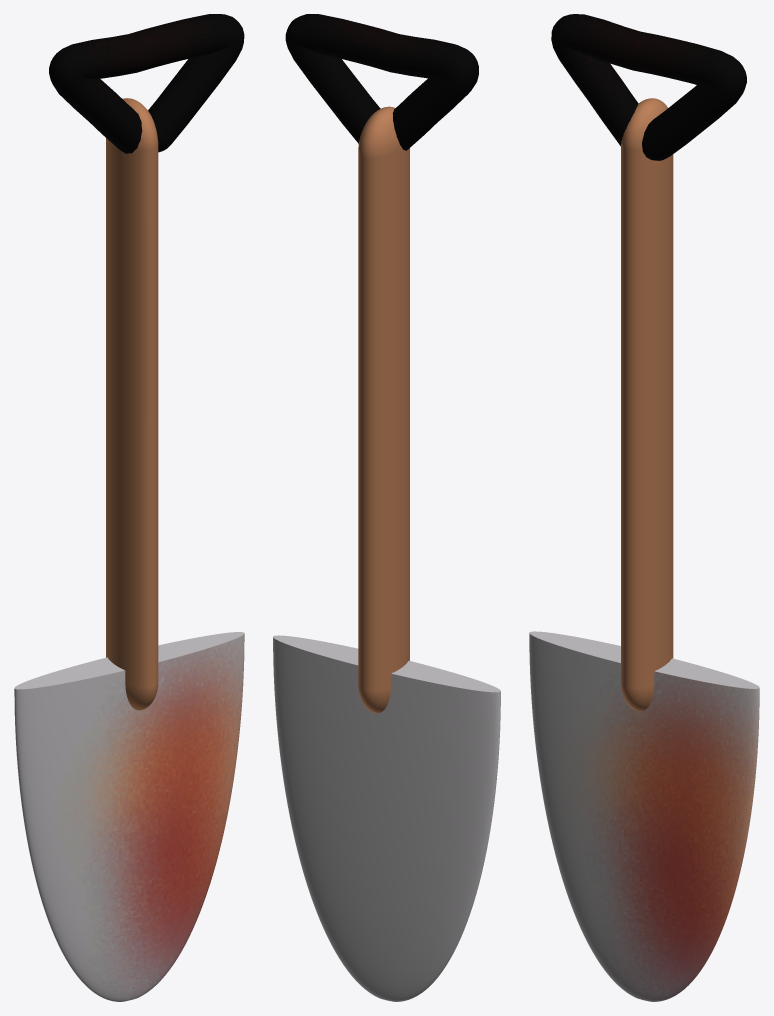
The model's file is shovel.fbx.
The picture shows the model from 3 angles, left to right: view 1: azimuth 30°, elevation 25°; view 2: azimuth 150°, elevation 25°; view 3: azimuth 330°, elevation 25°; orthographic projection.
Visible parts, largest first — view 1: root (×3); view 2: root (×3); view 3: root (×3).
Boxes of the visible parts, box(x1,y1,x2,y2) form: root (×3): box(14, 14, 244, 1001); root (×3): box(273, 14, 500, 1001); root (×3): box(529, 14, 759, 1001).
Bounding box in the file's own units: 0.0879 × 0.3566 × 0.0254.
3 materials, 3 textured.
